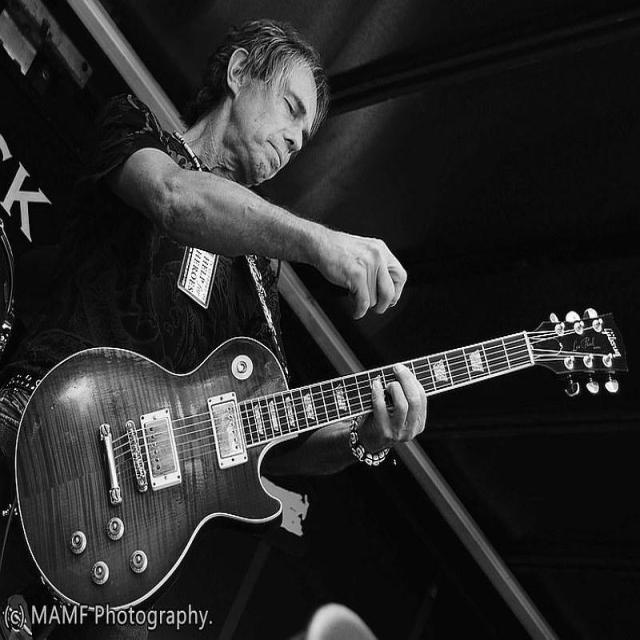guitar: (16, 339, 394, 608)
